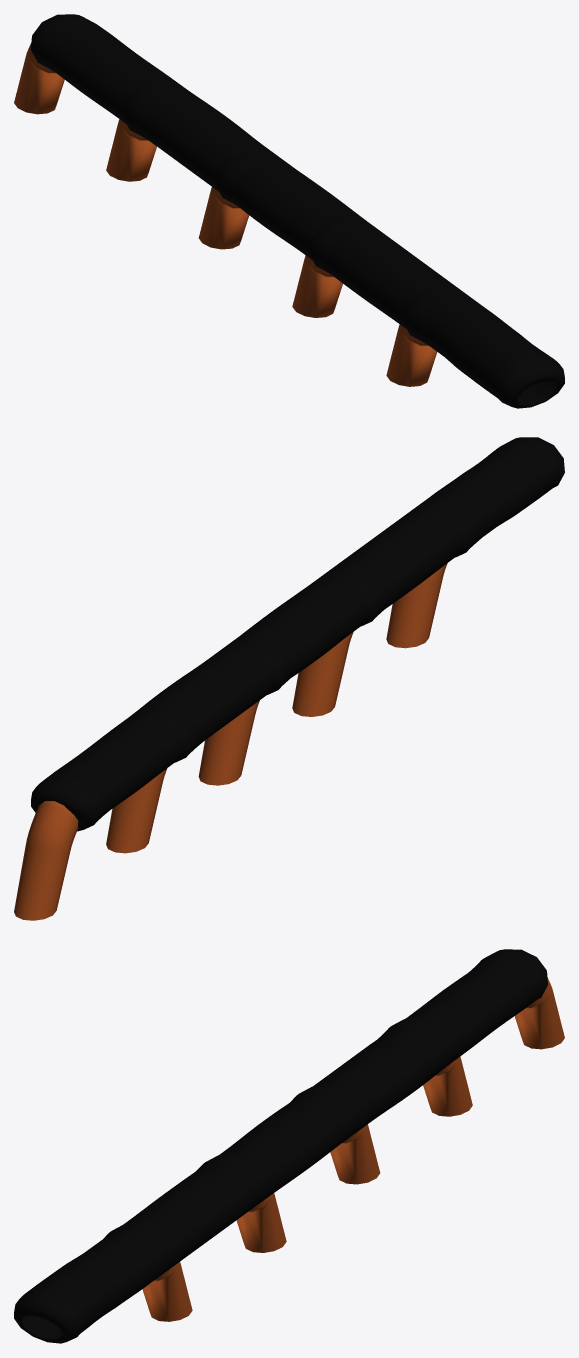
The model's file is Cable.fbx.
3 renders of one model, top to bottom at view 1: azimuth 30°, elevation 25°; view 2: azimuth 150°, elevation 25°; view 3: azimuth 330°, elevation 25°, orthographic.
Visible parts, largest first — view 1: Cable_6, Cable_2, Cable_4, Cable_5, Cable_3; view 2: Cable_6, Cable_4, Cable_5, Cable_2, Cable_3; view 3: Cable_6, Cable_2, Cable_3, Cable_4, Cable_5.
Boxes of the visible parts, box(x1,y1,x2,y2) form: Cable_6: box(14, 14, 335, 257); Cable_2: box(386, 289, 564, 408); Cable_4: box(198, 151, 436, 329); Cable_5: box(106, 83, 396, 260); Cable_3: box(292, 220, 486, 356); Cable_6: box(14, 583, 365, 920); Cable_4: box(198, 508, 463, 785); Cable_5: box(106, 551, 376, 853); Cable_2: box(386, 437, 564, 648); Cable_3: box(292, 482, 500, 716); Cable_6: box(220, 949, 564, 1154); Cable_2: box(14, 1222, 192, 1343); Cable_3: box(84, 1153, 286, 1282); Cable_4: box(124, 1085, 380, 1223); Cable_5: box(202, 1017, 472, 1217).
Bounding box in the file's own units: 41.98 × 65.07 × 555.
